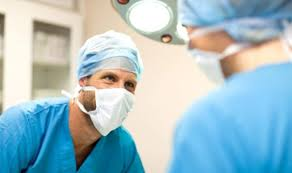mask: (93, 88, 131, 135)
